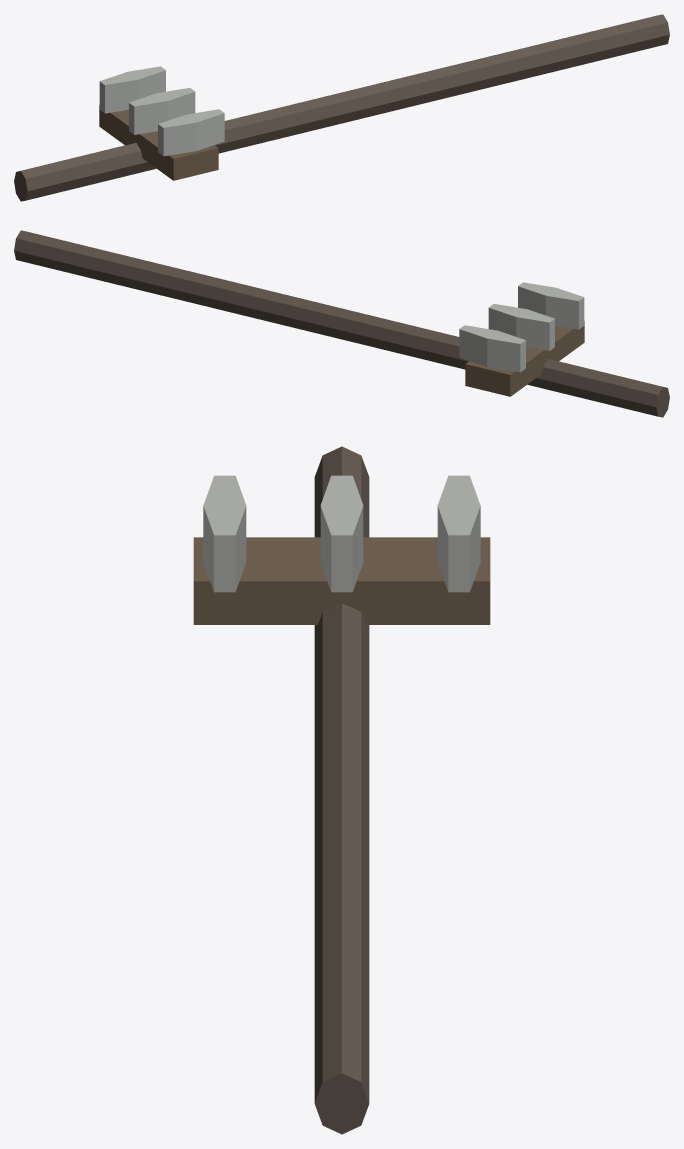
Rendered from fallen_pole.glb.
3 renders of one model, top to bottom at view 1: azimuth 30°, elevation 25°; view 2: azimuth 150°, elevation 25°; view 3: azimuth 270°, elevation 25°, orthographic. The views are drawn at different scales.
Visible parts, largest first — view 1: fallen_pole; view 2: fallen_pole; view 3: fallen_pole.
Boxes of the visible parts, box(x1,y1,x2,y2) form: fallen_pole: box(14, 14, 669, 201); fallen_pole: box(14, 230, 669, 417); fallen_pole: box(193, 446, 490, 1134).
Bounding box in the file's own units: 4.8 × 0.5 × 0.96.
